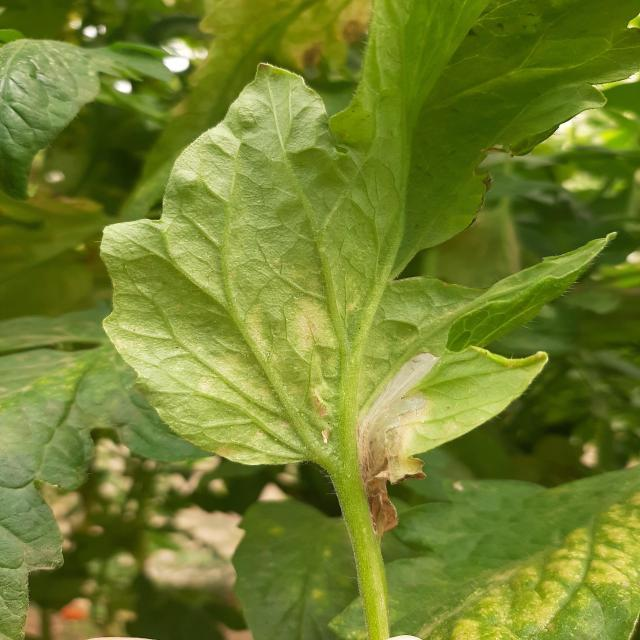Tuta absoluta: (333, 341, 452, 546)
